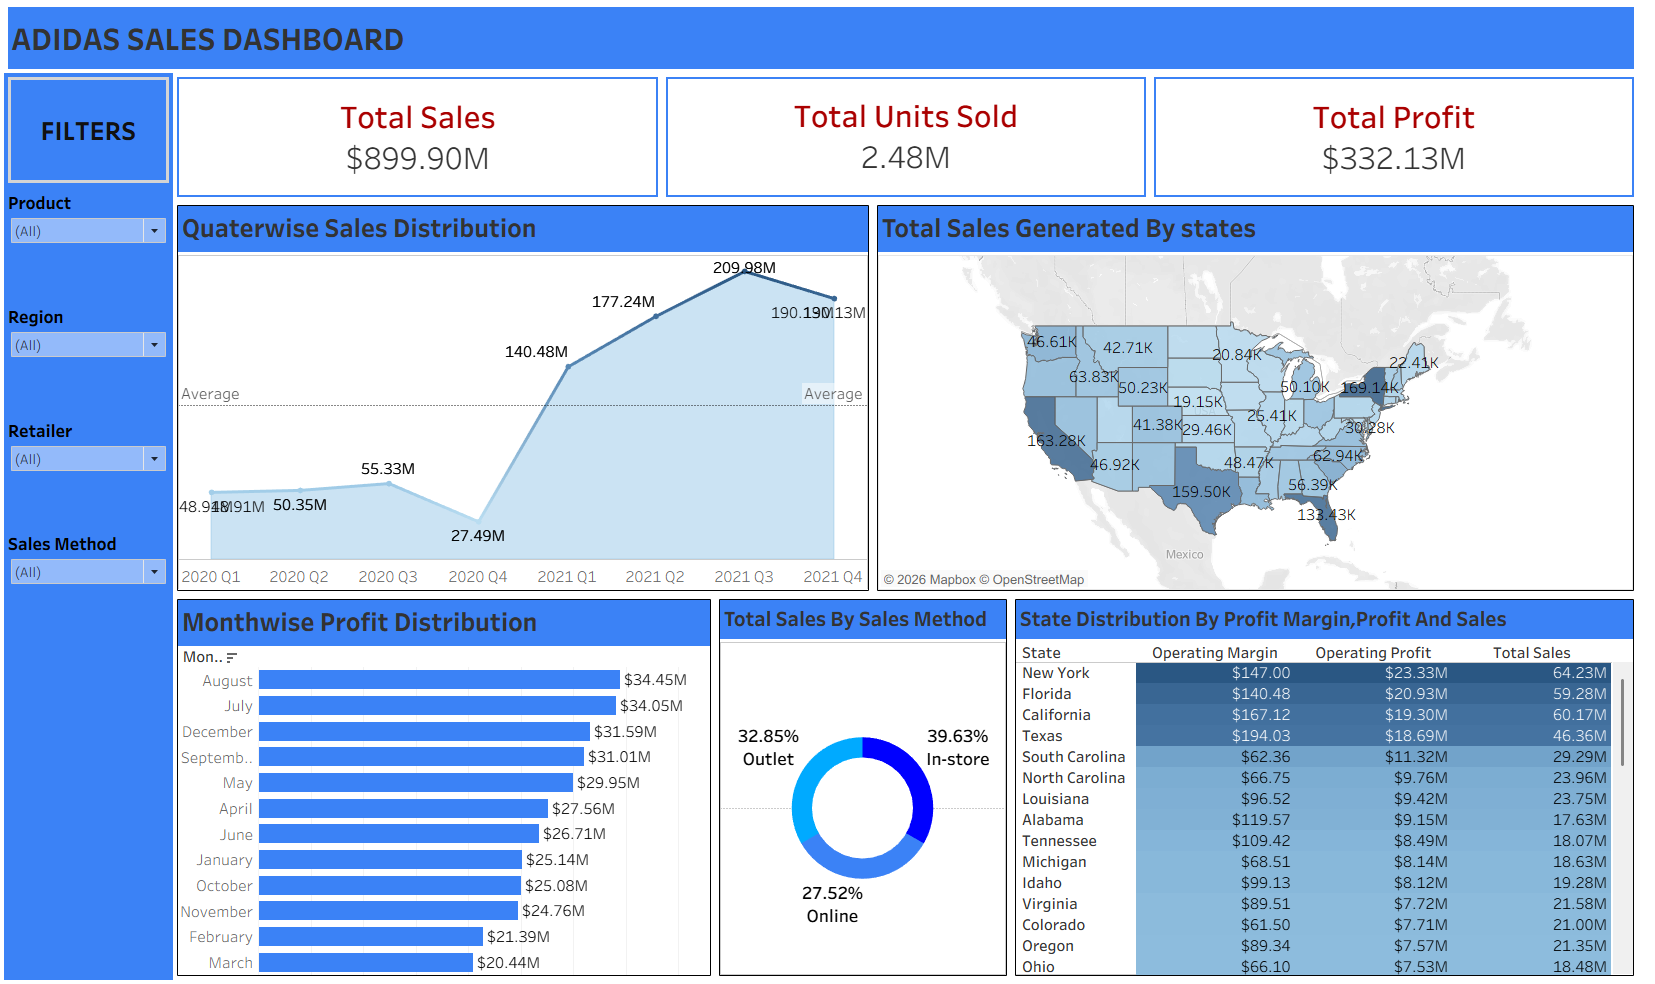

The dashboard page shown, as its layout file describes it:
{"tool":"tableau","page":{"name":"Dashboard 1","canvas":[1000,1000],"units":"permille","ordinal":0},"visuals":[{"type":"title","box":[4.9,10.2,990.2,70]},{"type":"text","box":[4.9,80.2,102.4,114.7]},{"type":"worksheet","title":"Sheet 1","mark":"Automatic","box":[107.2,80.2,296.2,128.7]},{"type":"worksheet","title":"Sheet 1 (2)","mark":"Automatic","box":[403.4,80.2,296.2,128.7]},{"type":"worksheet","title":"Sheet 1 (3)","mark":"Automatic","box":[699.6,80.2,295.6,128.7]},{"type":"filter","title":"Sheet 4","param":"[federated.0si1nsn1r254xg19ty3mn1cyrtcv].[none:Product:nk]","box":[4.9,194.9,102.4,114.7]},{"type":"worksheet","title":"Sheet 9","mark":"Area","rows":["Total Sales","Total Sales"],"cols":["Invoice Date"],"box":[107.2,208.8,426.6,394.9]},{"type":"worksheet","title":"Sheet 13","mark":"Multipolygon","box":[533.8,208.8,461.3,394.9]},{"type":"filter","title":"Sheet 4","param":"[federated.0si1nsn1r254xg19ty3mn1cyrtcv].[none:Region:nk]","box":[4.9,309.6,102.4,113.4]},{"type":"filter","title":"Sheet 4","param":"[federated.0si1nsn1r254xg19ty3mn1cyrtcv].[none:Retailer:nk]","box":[4.9,422.9,102.4,113.4]},{"type":"filter","title":"Sheet 4","param":"[federated.0si1nsn1r254xg19ty3mn1cyrtcv].[none:Sales Method:nk]","box":[4.9,536.3,102.4,113.4]},{"type":"worksheet","title":"Sheet 4","mark":"Bar","rows":["Invoice Date"],"cols":["Operating Profit"],"box":[107.2,603.8,328.4,386]},{"type":"worksheet","title":"Sheet 5","mark":"Pie","rows":["Calculation_1035827925545623553","Calculation_1035827925545623553"],"box":[435.7,603.8,180.4,386]},{"type":"worksheet","title":"Sheet 14","mark":"Square","rows":["State"],"box":[616,603.8,379.1,386]},{"type":"blank","box":[4.9,649.7,102.4,113.4]},{"type":"blank","box":[4.9,763.1,102.4,113.4]},{"type":"blank","box":[4.9,876.4,102.4,113.4]}]}

Visuals, with their boxes on the dashboard's canvas, which has no fixed pixel size, in thousandths of its width and height (x1, y1, x2, y2). These are canvas units, not pixel positions in the 1655x984 screenshot, which may show the page scaled, cropped or inside an application window:
title: [x1=5, y1=10, x2=995, y2=80]
text: [x1=5, y1=80, x2=107, y2=195]
"Sheet 1" worksheet: [x1=107, y1=80, x2=403, y2=209]
"Sheet 1 (2)" worksheet: [x1=403, y1=80, x2=700, y2=209]
"Sheet 1 (3)" worksheet: [x1=700, y1=80, x2=995, y2=209]
"Sheet 4" filter: [x1=5, y1=195, x2=107, y2=310]
"Sheet 9" worksheet (Area marks): [x1=107, y1=209, x2=534, y2=604]
"Sheet 13" worksheet (Multipolygon marks): [x1=534, y1=209, x2=995, y2=604]
"Sheet 4" filter: [x1=5, y1=310, x2=107, y2=423]
"Sheet 4" filter: [x1=5, y1=423, x2=107, y2=536]
"Sheet 4" filter: [x1=5, y1=536, x2=107, y2=650]
"Sheet 4" worksheet (Bar marks): [x1=107, y1=604, x2=436, y2=990]
"Sheet 5" worksheet (Pie marks): [x1=436, y1=604, x2=616, y2=990]
"Sheet 14" worksheet (Square marks): [x1=616, y1=604, x2=995, y2=990]
blank: [x1=5, y1=650, x2=107, y2=763]
blank: [x1=5, y1=763, x2=107, y2=876]
blank: [x1=5, y1=876, x2=107, y2=990]
